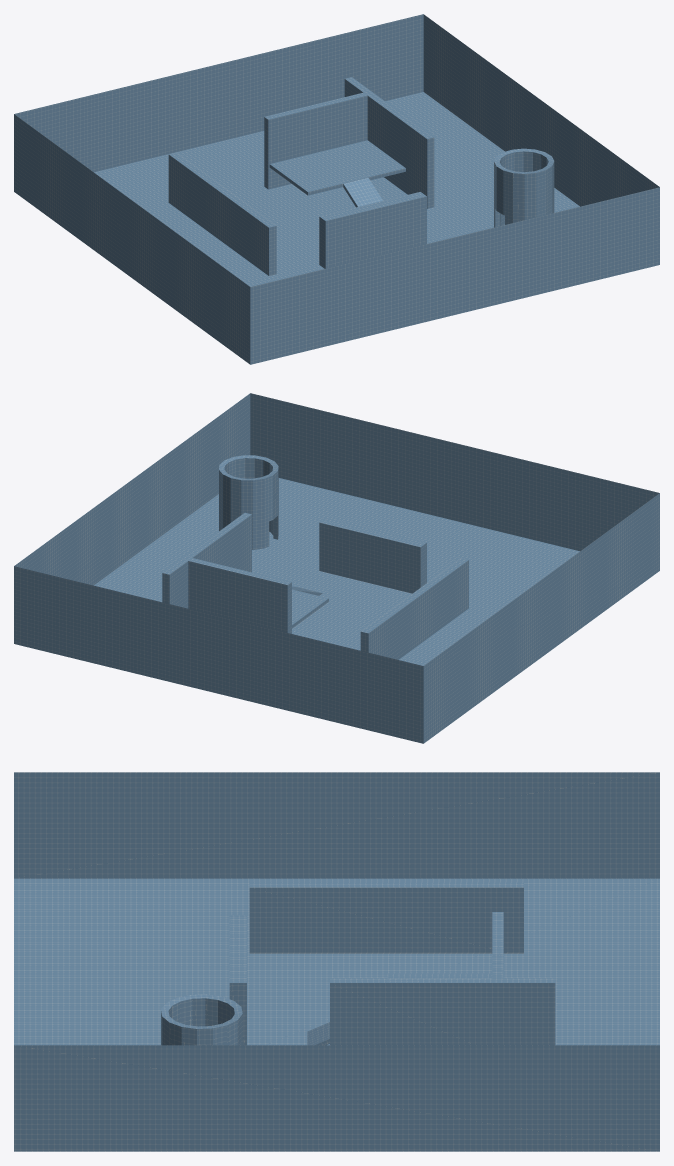
The picture shows the model from 3 angles, top to bottom: view 1: azimuth 30°, elevation 25°; view 2: azimuth 150°, elevation 25°; view 3: azimuth 270°, elevation 25°; orthographic projection. The views are drawn at different scales.
Parts seen in each view (by area): view 1: Cube; view 2: Cube; view 3: Cube.
Boxes of the visible parts, x1=… form: Cube: x1=14, y1=14, x2=659, y2=364; Cube: x1=14, y1=393, x2=659, y2=743; Cube: x1=14, y1=772, x2=659, y2=1151.
Size of the model in its own units: 32.59 by 6.14 by 32.59.
1 material, 1 textured.
